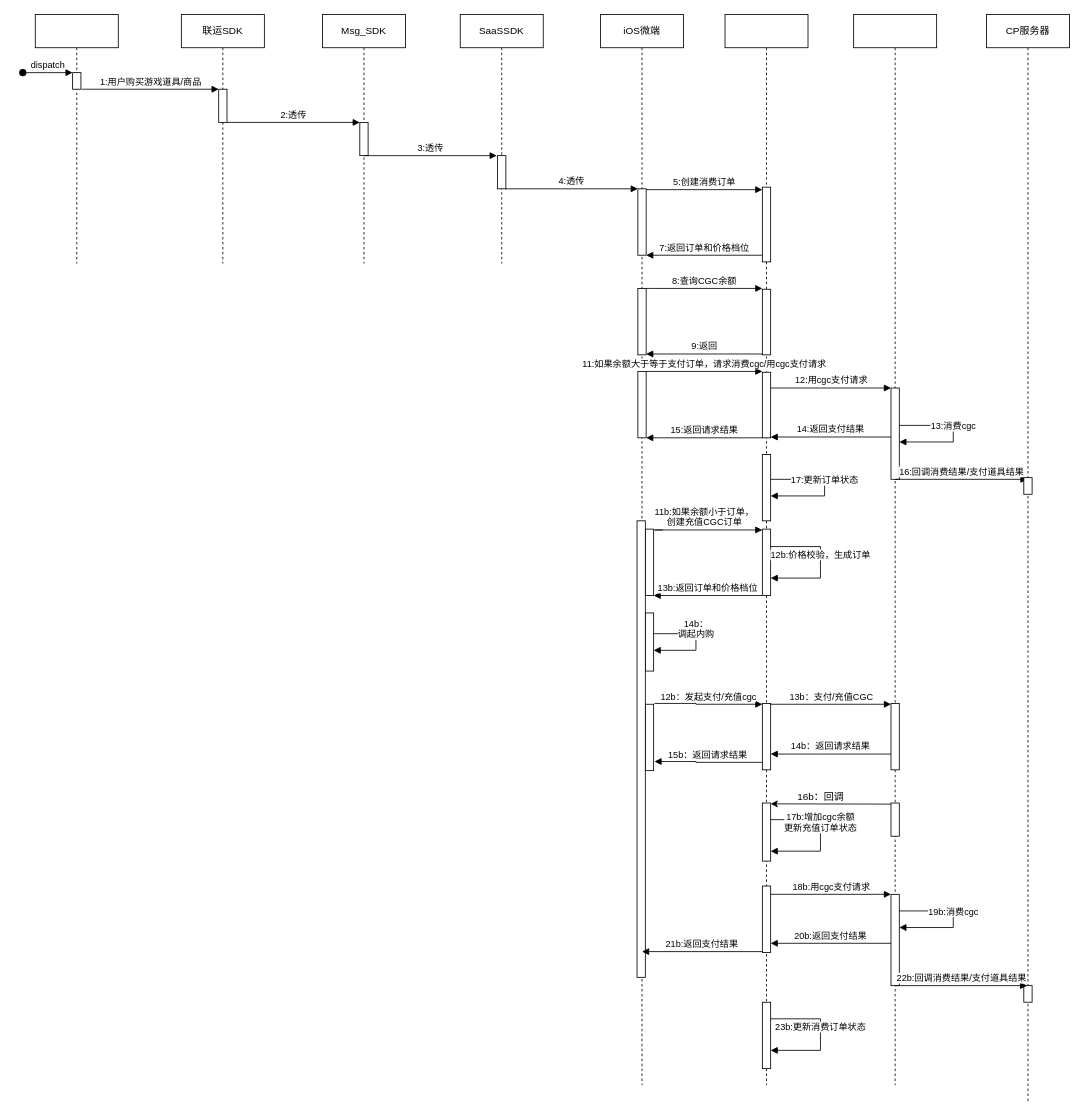
This 1084x1116 diagram has some shape labels left out. The box of each missing label's shape, as (x1, y1, x2, y2) in pixels:
支付中心: (853, 14, 937, 1085)
联运APP: (34, 14, 118, 264)
联运中心: (724, 14, 808, 1085)
